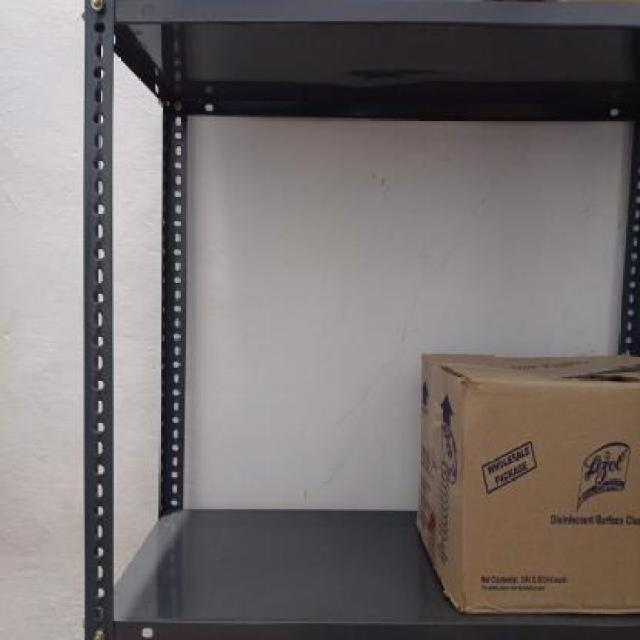box: (454, 384, 640, 620)
